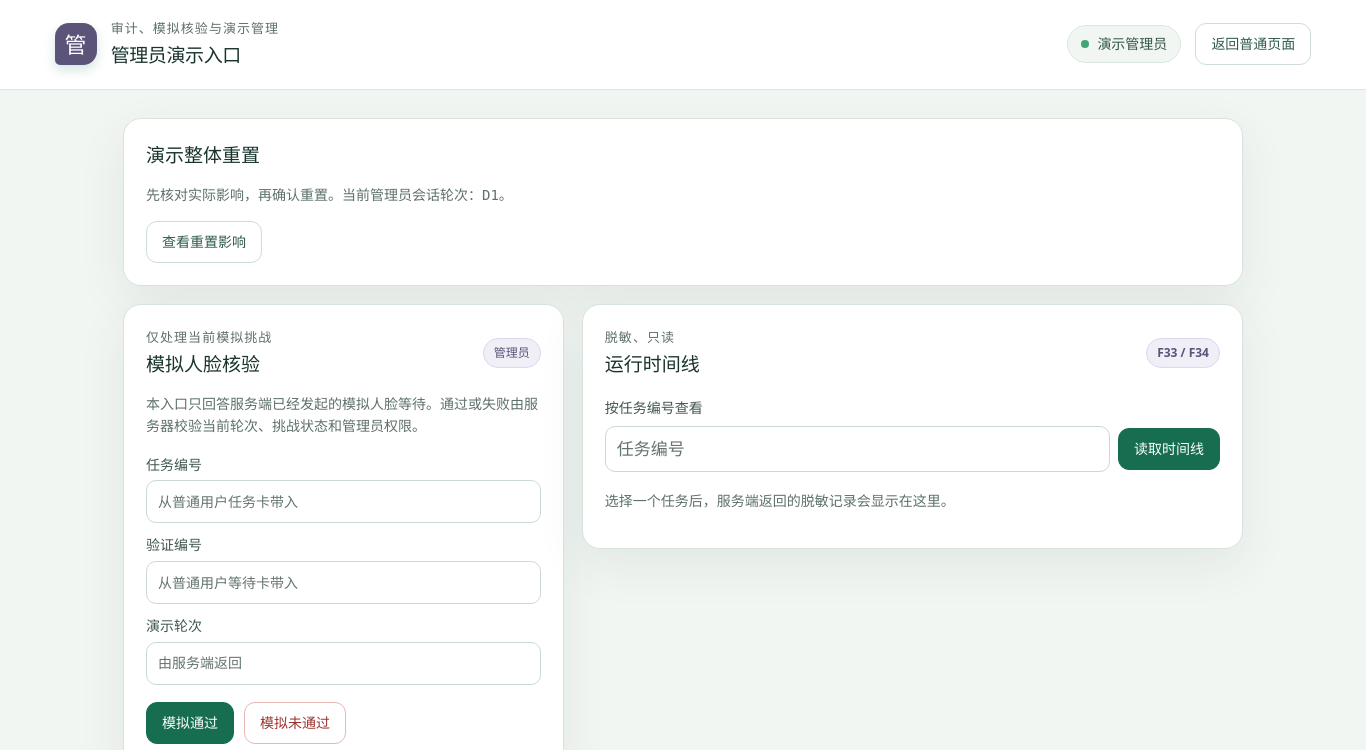
Test: administrator demo reset › keeps partial failure and its stage, then continues the exact original reset request
Click the button "查看重置影响" at (204, 242), box x1=146 y1=221 x2=262 y2=263
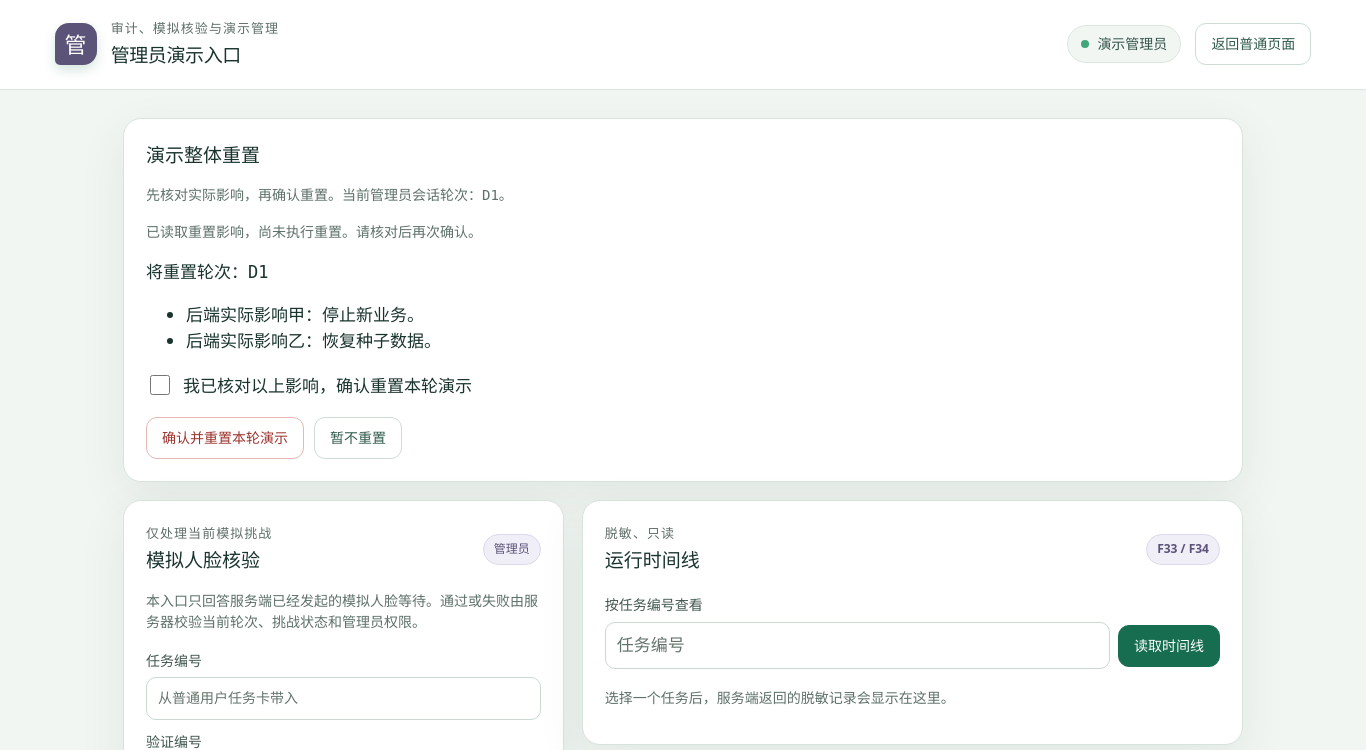
expect the list item "后端实际影响甲：停止新业务。" is shown: met, box x1=186 y1=303 x2=424 y2=326
Click the checkbox labelled "我已核对以上影响，确认重置本轮演示" at (160, 385), box x1=150 y1=375 x2=170 y2=395
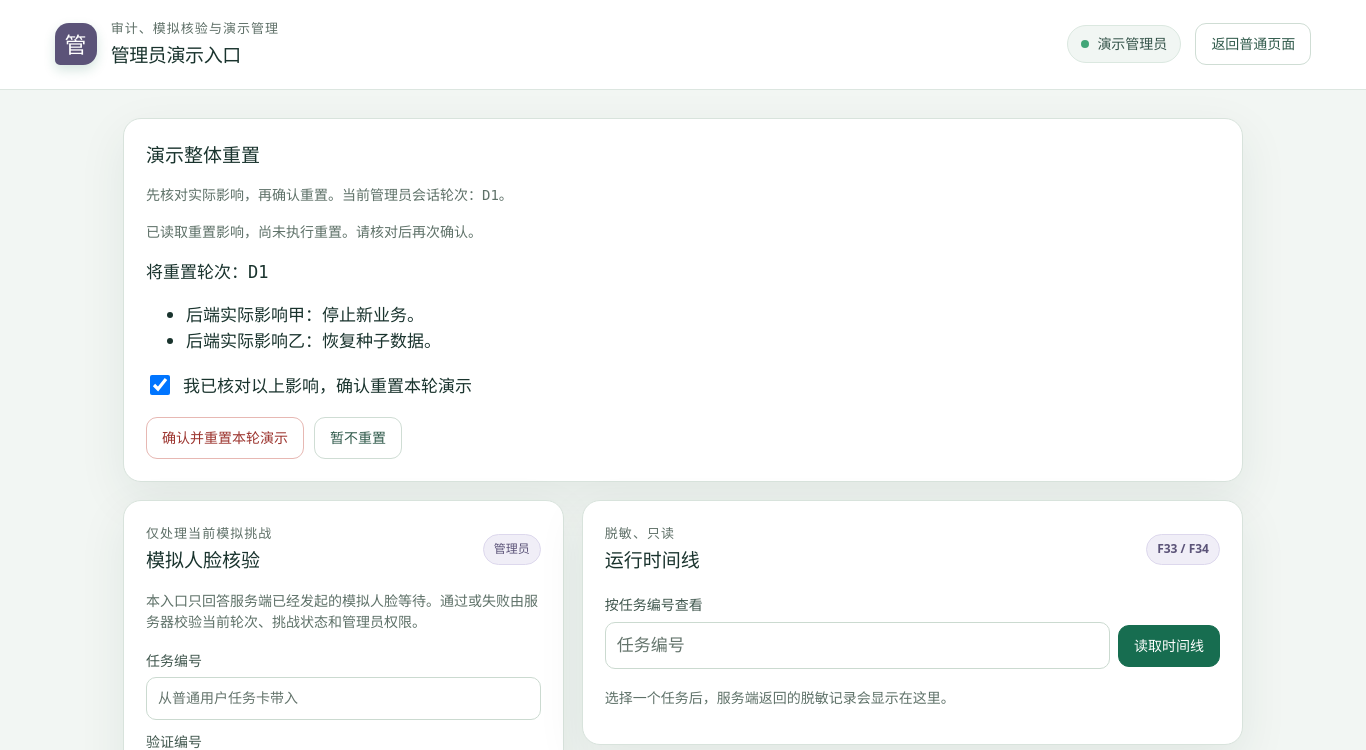
Click the button "确认并重置本轮演示" at (225, 438), box x1=146 y1=417 x2=304 y2=459
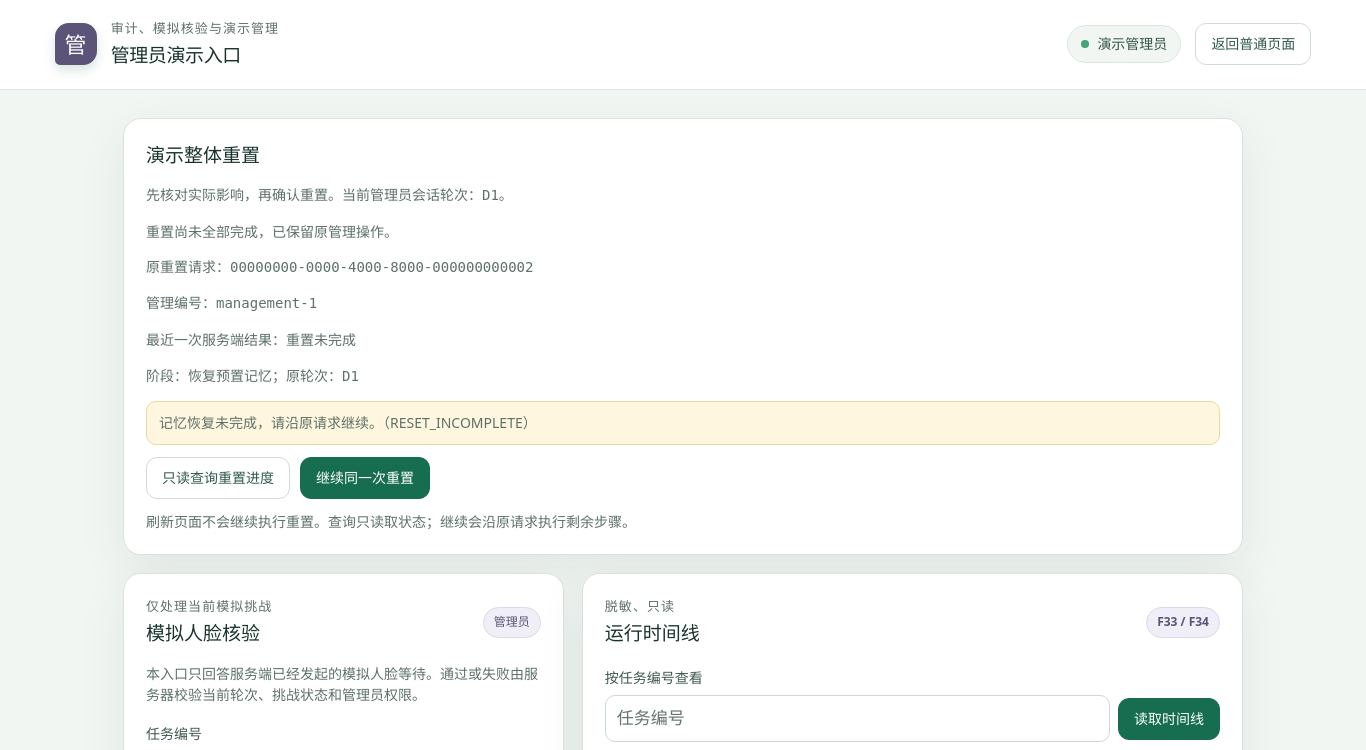
expect the text "重置未完成" is shown: met, box x1=286 y1=330 x2=356 y2=349
expect the text "记忆恢复未完成，请沿原请求继续。（RESET_INCOMPLETE）" is shown: met, box x1=146 y1=402 x2=1220 y2=445
expect the text "阶段：恢复预置记忆；原轮次：D1" is shown: met, box x1=146 y1=366 x2=359 y2=385
Click the button "继续同一次重置" at (365, 478), box x1=300 y1=457 x2=430 y2=499
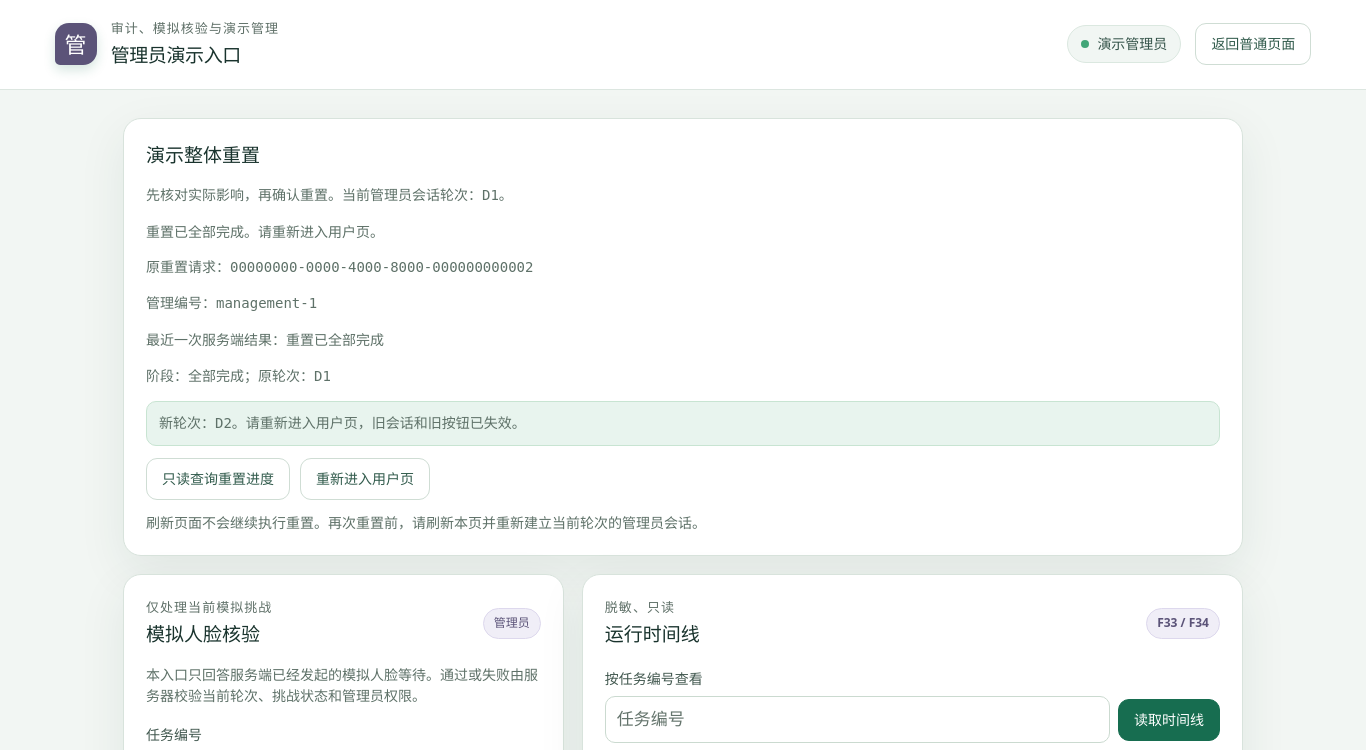
expect the text "重置已全部完成" is shown: met, box x1=286 y1=330 x2=384 y2=349
expect the text "新轮次：D2。请重新进入用户页，旧会话和旧按钮已失效。" is shown: met, box x1=146 y1=402 x2=1220 y2=446
expect the link "重新进入用户页" is shown: met, box x1=300 y1=458 x2=430 y2=500
